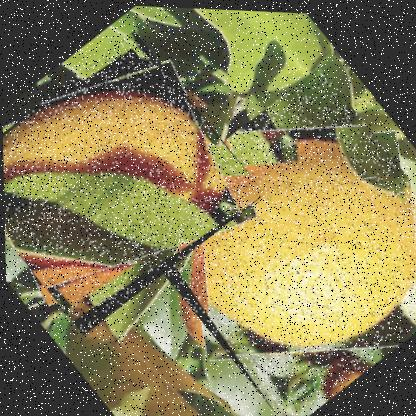orange: (114, 55, 415, 415), (0, 23, 267, 342)
